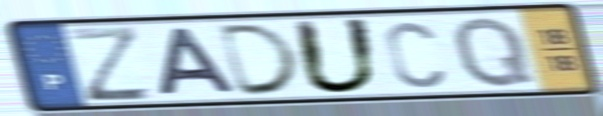A: (153, 25, 243, 98)
C: (382, 19, 448, 90)
D: (216, 21, 306, 98)
Q: (450, 13, 538, 90)
U: (289, 16, 384, 97)
Z: (63, 23, 157, 104)
